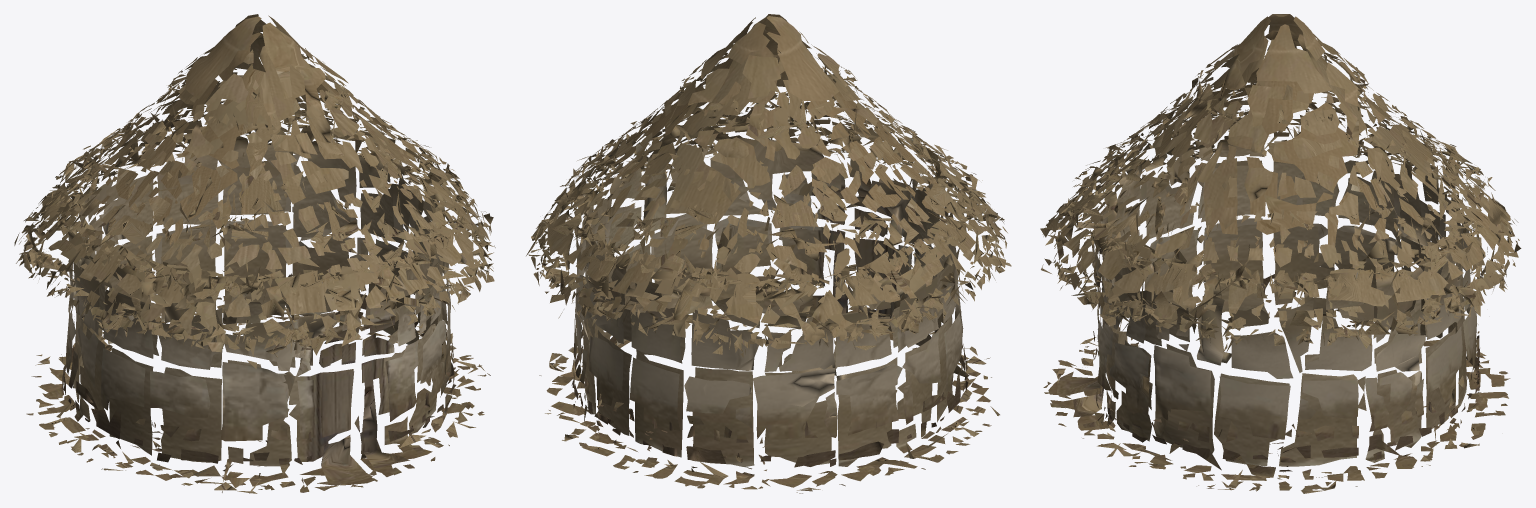
The model's file is strohhuette.glb.
3 renders of one model, left to right at view 1: azimuth 30°, elevation 25°; view 2: azimuth 150°, elevation 25°; view 3: azimuth 270°, elevation 25°, orthographic.
Size of the model in its own units: 1.86 by 1.63 by 1.87.
Materials: 1 (1 with a texture image).
